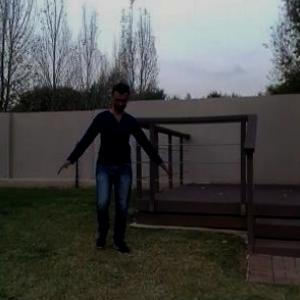land: (66, 78, 172, 262)
